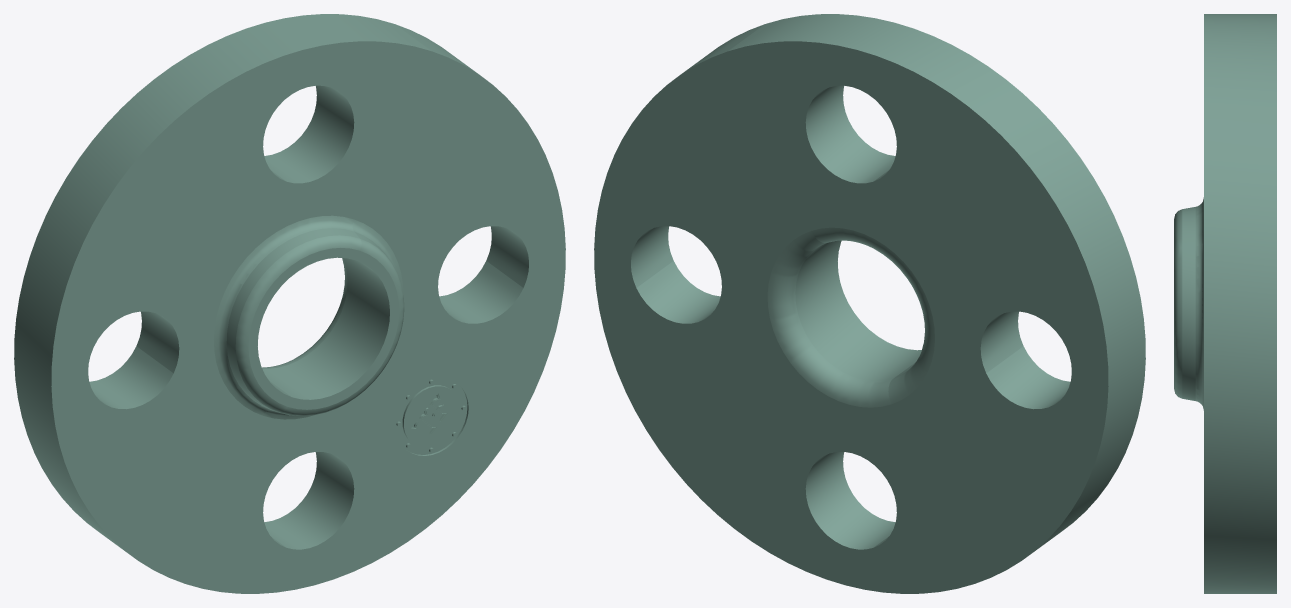
The model's file is 0.5-150-LAP-JOINT-FLANGE.glb.
3 views of the same model, side by side, from view 1: azimuth 30°, elevation 25°; view 2: azimuth 150°, elevation 25°; view 3: azimuth 270°, elevation 25° (orthographic). The views are drawn at different scales.
Visible parts, largest first — view 1: empty_2; view 2: empty_2; view 3: empty_2.
Boxes of the visible parts, x1,y1,x2,y2 form: empty_2: (14, 14, 565, 593); empty_2: (594, 14, 1145, 593); empty_2: (1174, 14, 1276, 593).
Size of the model in its own units: 0.0889 by 0.0889 by 0.0157.
